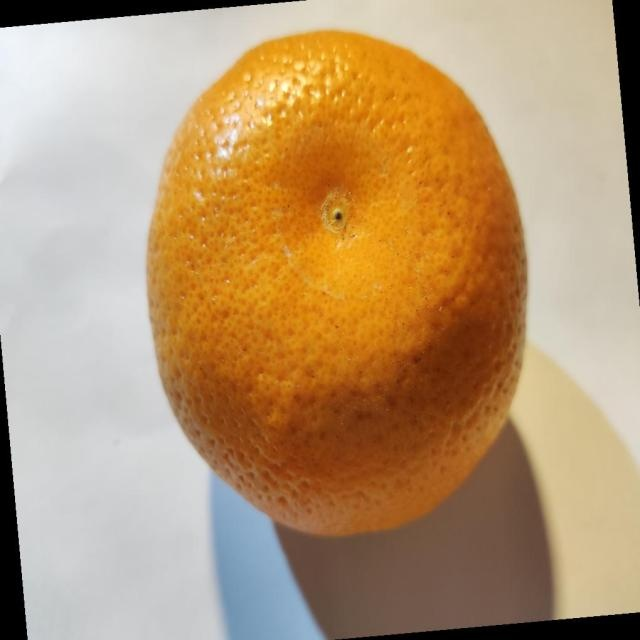agrume: (144, 27, 530, 537)
